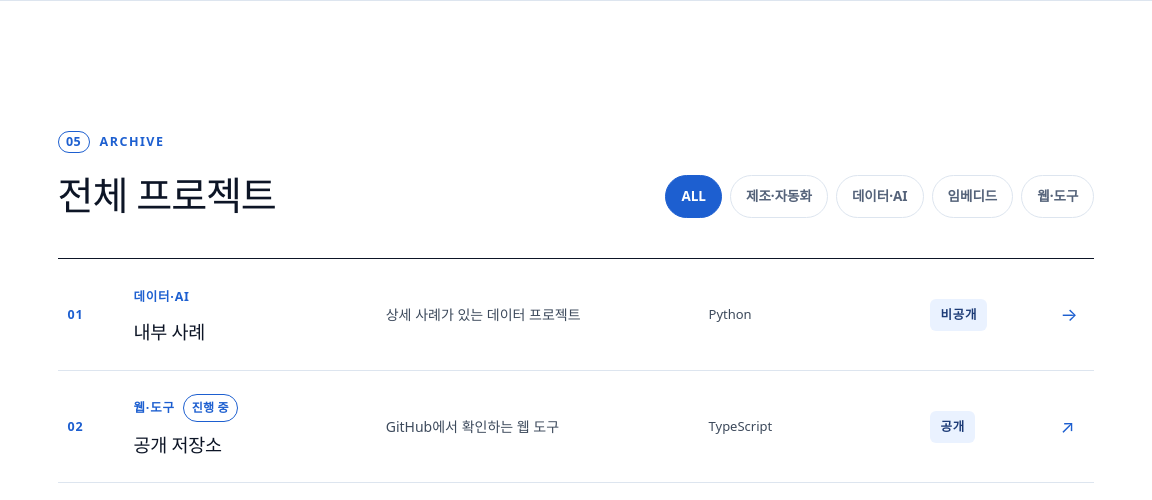
Scenario: Archive › shows an empty state for a category without public projects
The image size is (1152, 500).
Click the button "임베디드" at x=972, y=196, box [932, 174, 1013, 218]
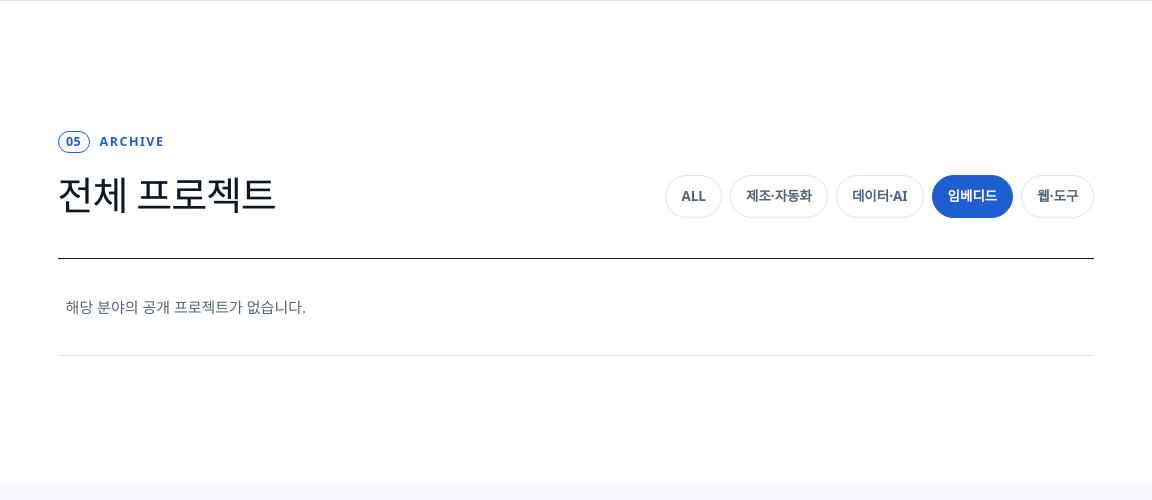
Now the text "해당 분야의 공개 프로젝트가 없습니다." is shown, box [58, 259, 1094, 356]
